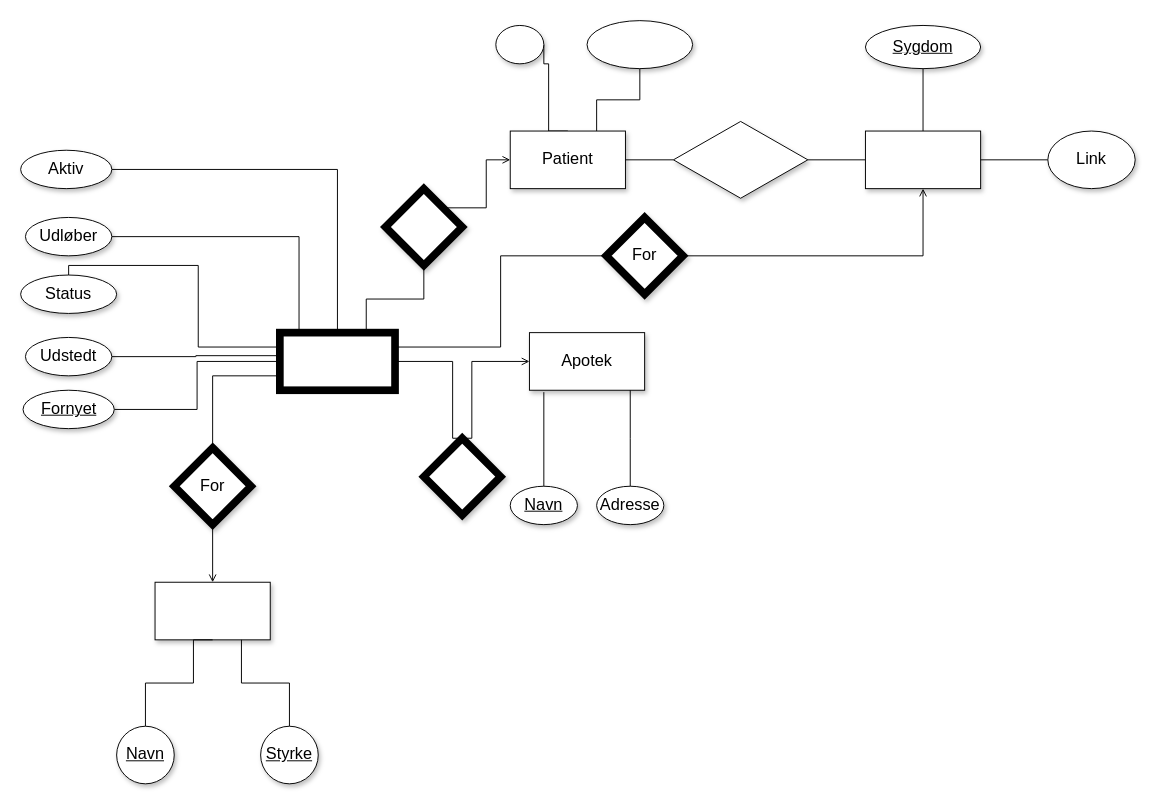
Some shapes in this 1158 by 807 pixel diagram are drawn without their labels. The shapes that lost their labels are listed below. From the top down, each one's centre as x and y in pixels, then its label:
the point at 520,46: CPR
the point at 640,45: Password
the point at 741,161: Behandling for
the point at 923,160: Diagnose
the point at 424,228: Har
the point at 337,361: Recept
the point at 463,477: Tilhører
the point at 213,612: Medicin
